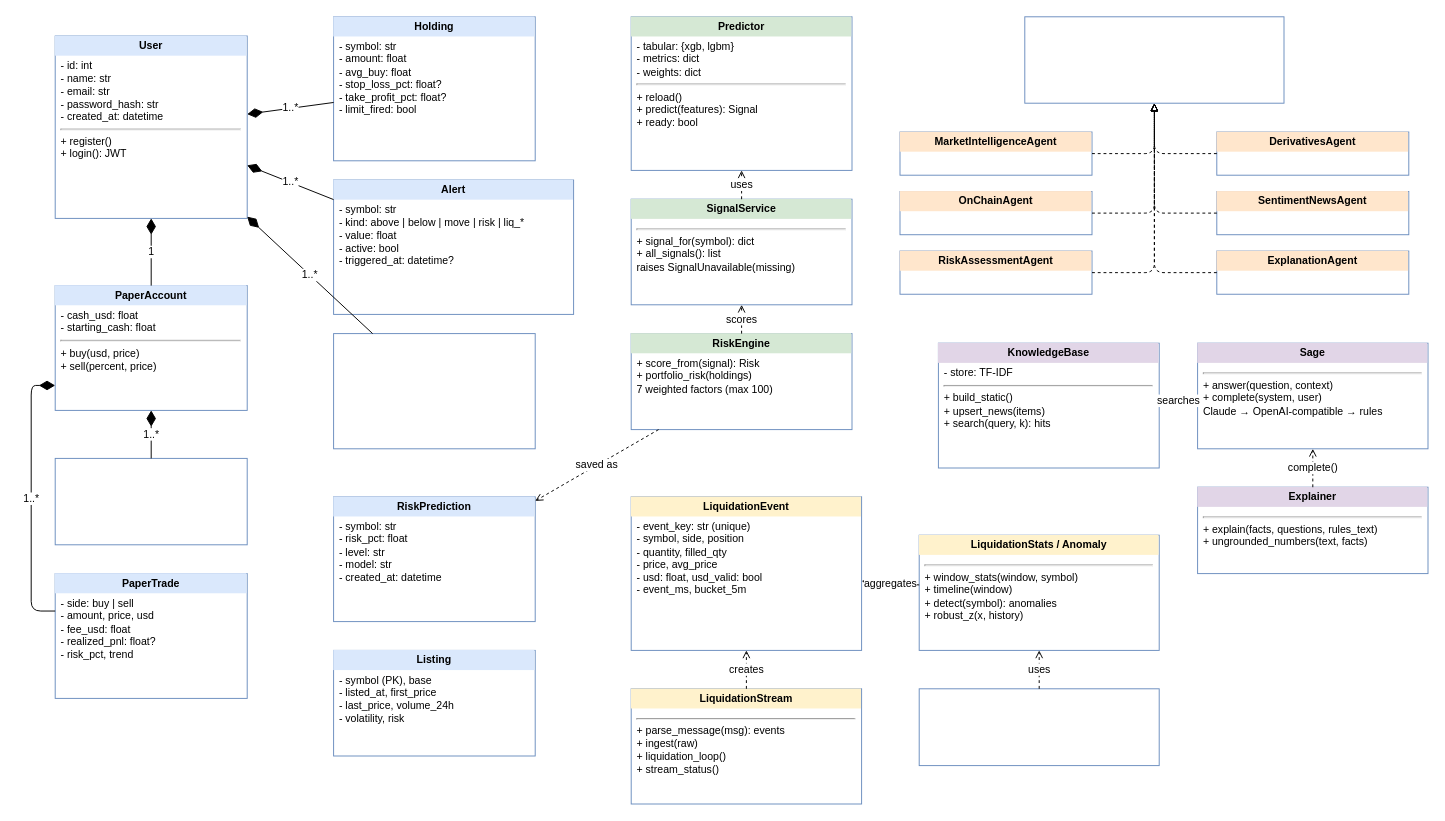
The diagram is 1445 pixels wide and 821 high, and some of its shapes have lost their labels. The shapes that lost their labels are listed below. From the top down, each one's centre as x and y in pixels, then its label:
At (1154,59): "«interface» SpecialistAgent + name: str + analyze(question, context): Report".
At (434,391): "Notification - message: str - kind: str - seen: bool - created_at: datetime".
At (150,501): "PaperPosition - symbol: str - amount: float - avg_price: float".
At (1038,727): "LiquidationAlerts + evaluate(alerts): fired + cooling_down(alert)".
